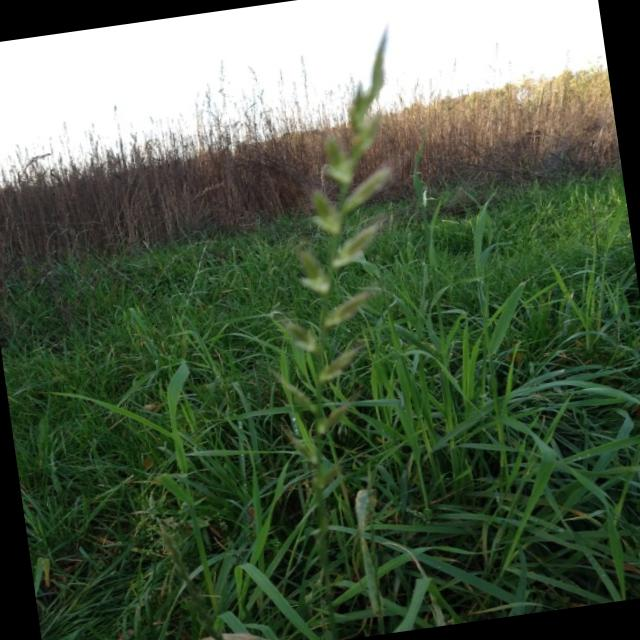Lolium: (226, 24, 454, 478)
